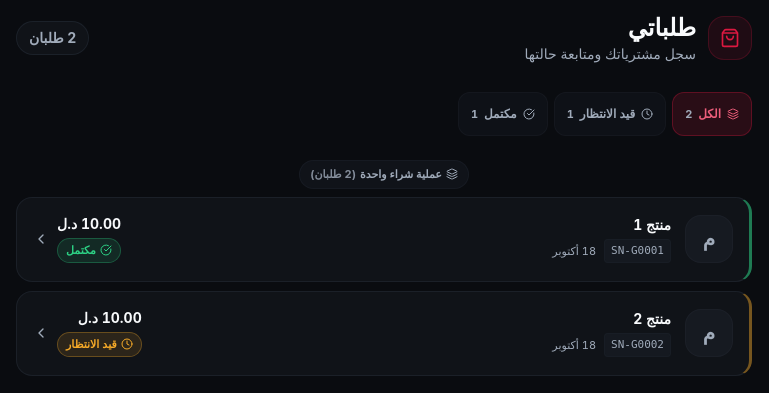
Test: OrdersPage — the cluster affordance (R165 render) › R166 (F10b): same-group rows split across filter buckets → NO divider inside the filtered bucket
This screenshot has width=769, height=393.
Expected: the text "عملية شراء واحدة" is shown once, [299,160,469,189]
Expected: the text "(2 طلبان)" is shown, [310,165,356,184]
Click the button "مكتمل 1".
click(503, 114)  # box [458,92,548,136]
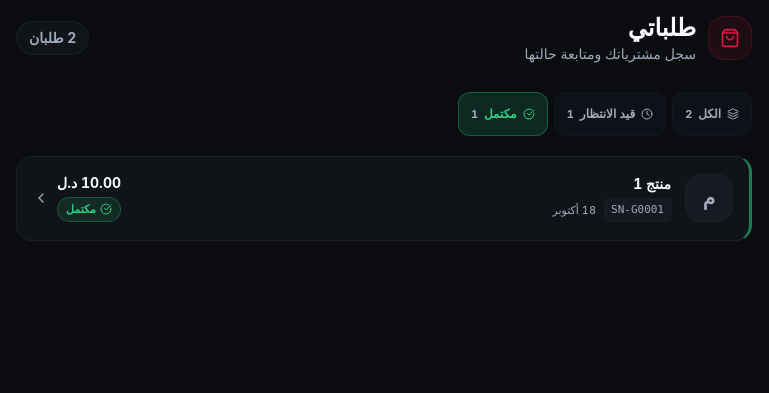
Expected: the link "م منتج 1 SN-G0001 18 أكتوبر 10.00 د.ل مكتمل" is shown, [16,156,752,240]
Expected: the text "عملية شراء واحدة" is gone
Expected: the link "SN-G0002" is gone
